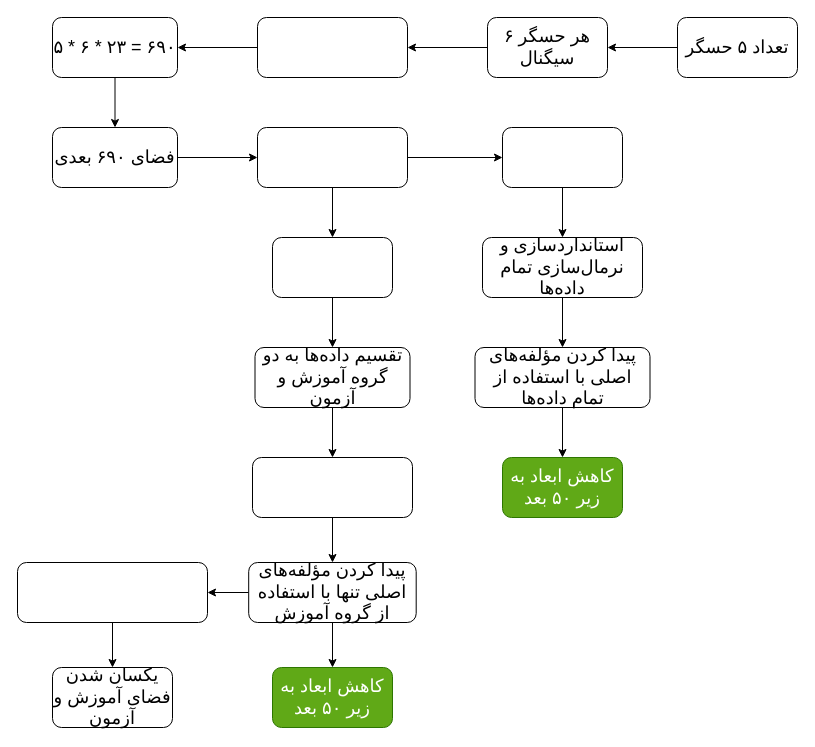
Image size: 815x747. Some labels were removed from this diagram. The shapes that lost their labels are listed below. From the top down, each one's centre as x and y in pixels, then its label:
At pixel 332 47: "هر سیگنال ۲۳ ویژگی".
At pixel 332 157: "نیاز به کاهش ابعاد فضا".
At pixel 562 157: "اجرای مستقیم روی تمام داده‌ها".
At pixel 332 267: "اجرا داخل یک Pipeline".
At pixel 332 487: "استاندارد‌سازی و نرمال‌سازی داده‌های آموزش".
At pixel 112 592: "اعمال ضرایب بدست آمده برای مولفه‌های اصلی برروی گروه آزمون".
